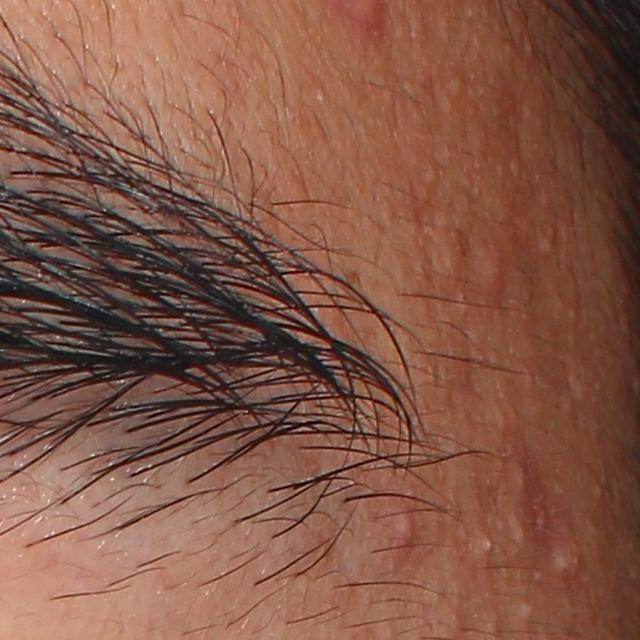comedo: (512, 518, 532, 546), (521, 601, 537, 620), (483, 537, 495, 552)
papule: (469, 237, 516, 304), (391, 500, 423, 546)
